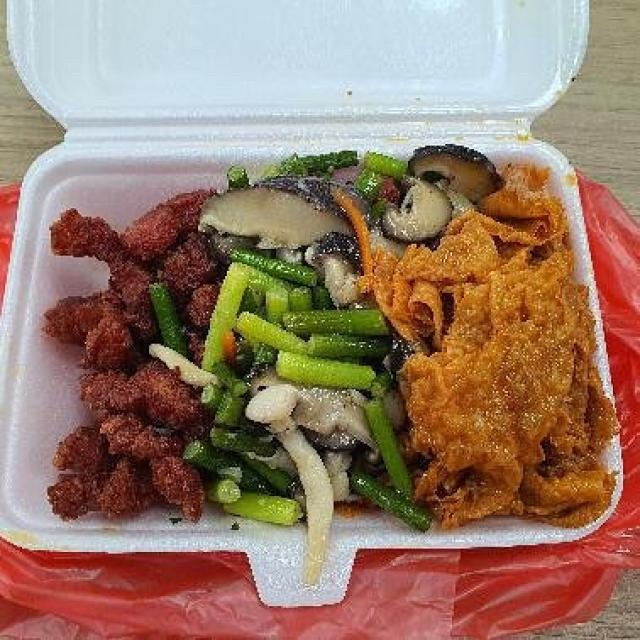Green veg: (185, 246, 428, 528), (330, 152, 405, 218), (149, 283, 188, 356)
Non green veg: (356, 169, 613, 527)
Pork: (44, 191, 223, 518)
